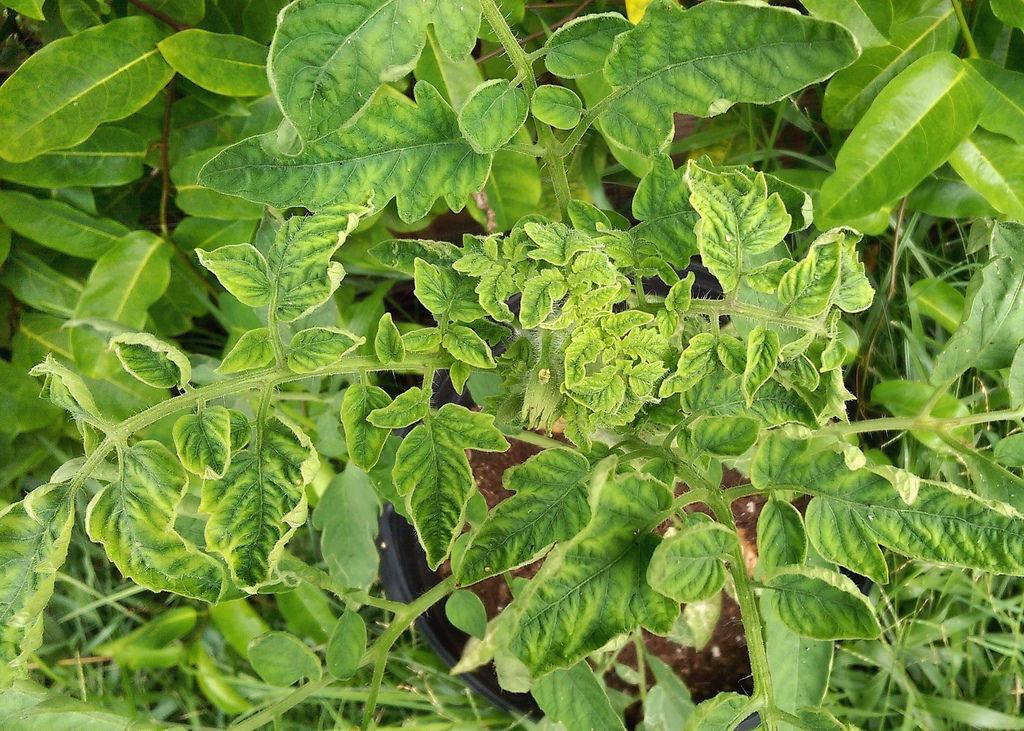Tomato leaf yellow virus: (739, 406, 1023, 594), (497, 450, 712, 676), (591, 1, 861, 176), (182, 95, 505, 221), (806, 48, 989, 241), (349, 381, 527, 577), (2, 1, 184, 187), (88, 433, 239, 645), (259, 1, 441, 154), (44, 229, 173, 426), (207, 403, 320, 608), (447, 440, 606, 578), (235, 196, 364, 333), (680, 161, 798, 292), (639, 501, 751, 619), (104, 329, 194, 394), (280, 317, 365, 379), (736, 323, 784, 406), (656, 334, 717, 397), (514, 265, 567, 336), (559, 366, 631, 417), (436, 324, 502, 370), (371, 308, 407, 374)
